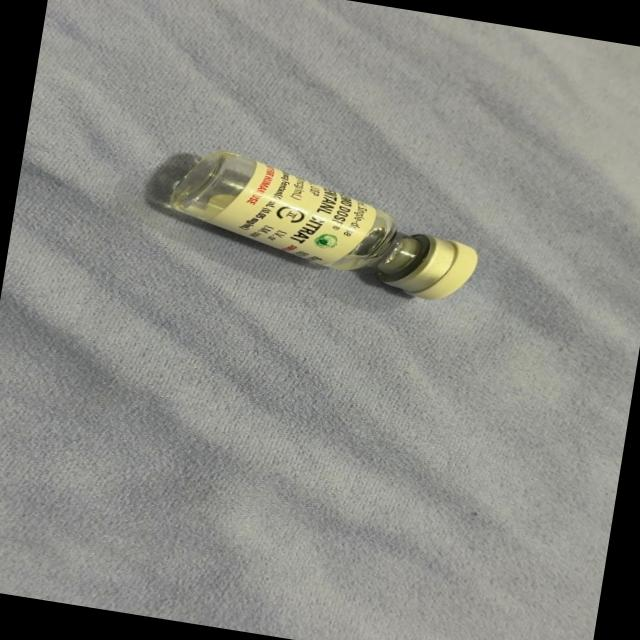fentanl_citrat: (158, 144, 482, 304)
